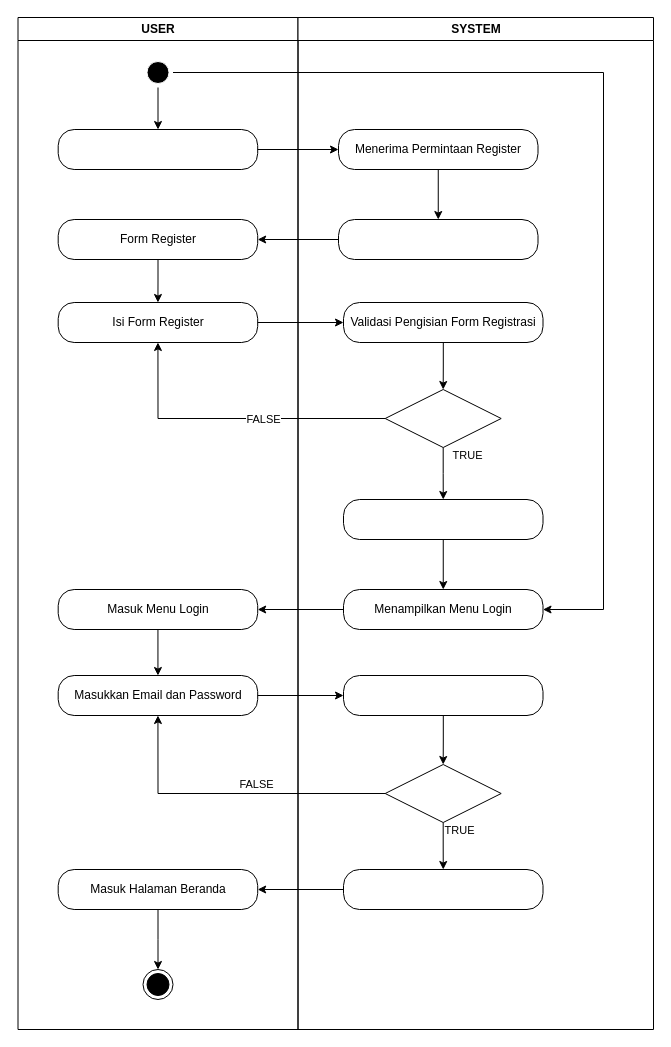
Some shapes in this 671 by 1047 pixel diagram are drawn without their labels. The centre of each missing label's shape, as x and y in pixels:
Memilih Menu Register: pixel 157 149
Menampilkan Beranda: pixel 442 889
Menampilkan Menu Register: pixel 438 239
Menyimpan Data Register: pixel 442 519
Validasi Form Login: pixel 442 695
